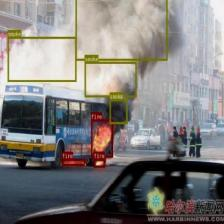fire: (90, 119, 113, 157), (62, 159, 85, 165), (93, 159, 105, 167)
smoke: (75, 0, 167, 60), (7, 37, 76, 81), (84, 62, 136, 96), (109, 99, 127, 124)
